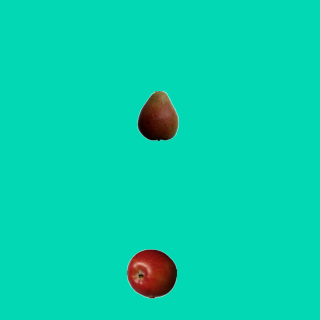Apple Braeburn: (126, 248, 176, 298)
Pear Forelle: (132, 90, 182, 140)
